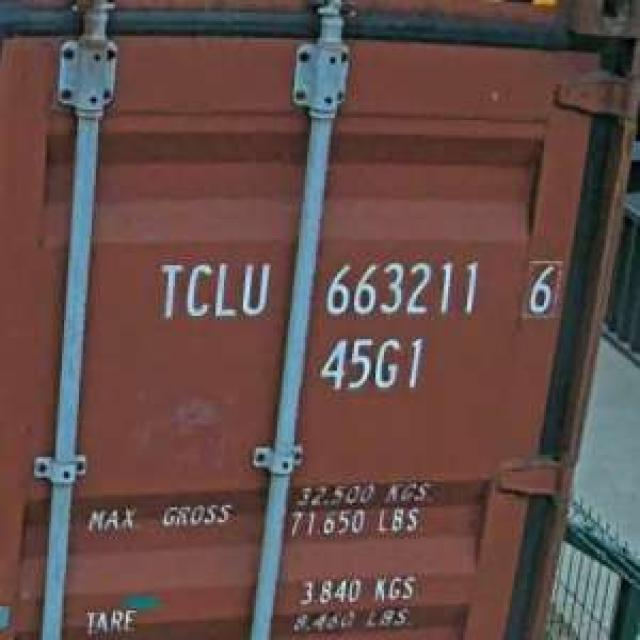dv: (518, 251, 566, 320)
owner: (152, 253, 273, 326)
serial: (318, 253, 482, 324)
size: (314, 330, 426, 398)
